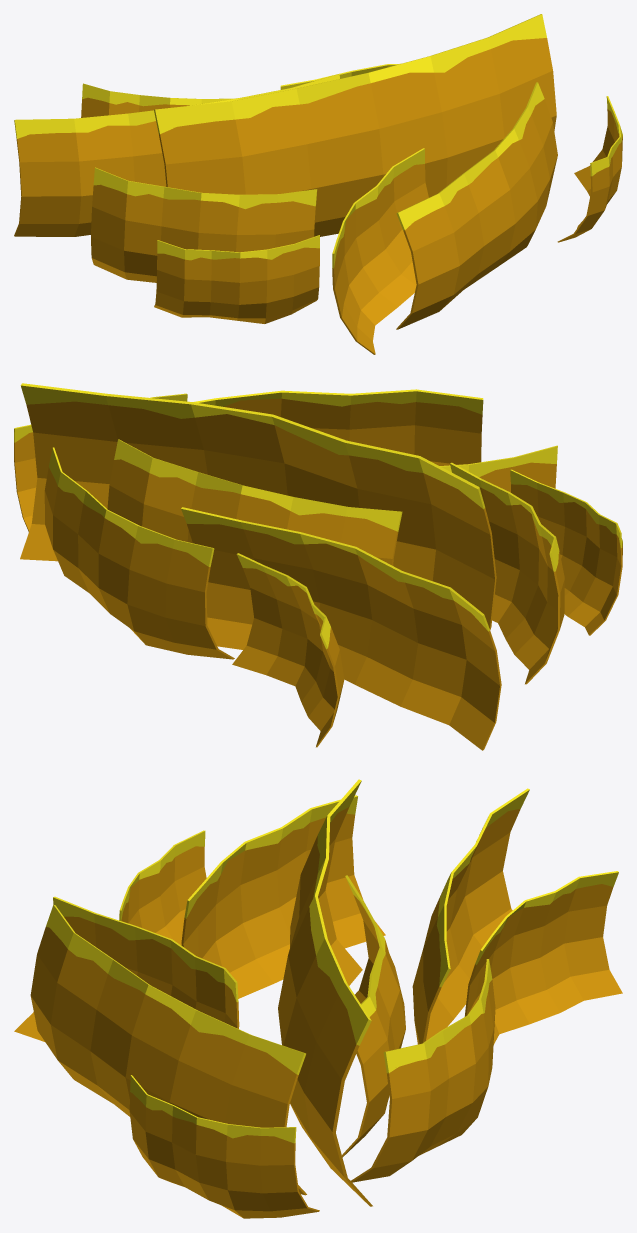
Rendered from Coral 3.glb.
The picture shows the model from 3 angles, top to bottom: view 1: azimuth 30°, elevation 25°; view 2: azimuth 150°, elevation 25°; view 3: azimuth 270°, elevation 25°; orthographic projection. The views are drawn at different scales.
Visible parts, largest first — view 1: Plane.009; view 2: Plane.009; view 3: Plane.009.
Boxes of the visible parts, left/top/right/bottom form: Plane.009: left=14, top=14, right=622, bottom=354; Plane.009: left=14, top=383, right=622, bottom=750; Plane.009: left=14, top=779, right=622, bottom=1218.
Size of the model in its own units: 1.08 by 0.3554 by 0.9099.
